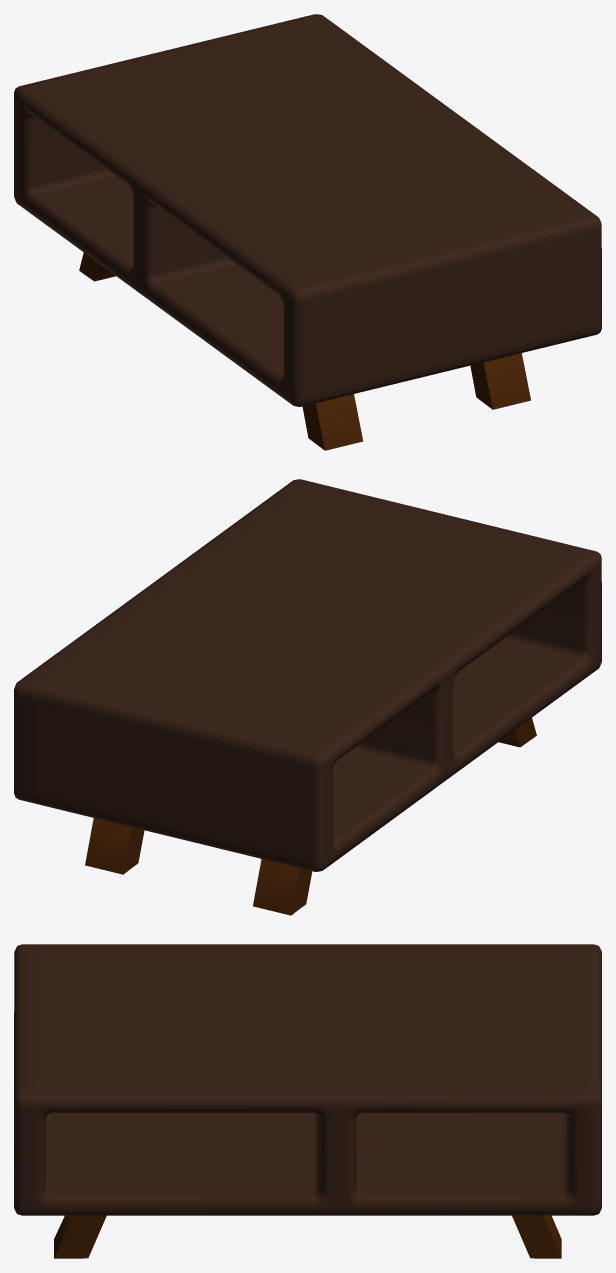
File: Table.fbx
3 views of the same model, one above another, from view 1: azimuth 30°, elevation 25°; view 2: azimuth 150°, elevation 25°; view 3: azimuth 270°, elevation 25° (orthographic). The views are drawn at different scales.
Visible parts, largest first — view 1: pCube5, pasted__pCube3, pasted__pasted__pCube3; view 2: pCube5, pasted__pCube3, pasted__pasted__pCube3; view 3: pCube5, pasted__pasted__pCube3.
Part boxes in pixels (<box>): pCube5: <box>14,14,601,406</box>; pasted__pCube3: <box>79,252,363,450</box>; pasted__pasted__pCube3: <box>470,353,530,409</box>; pCube5: <box>14,479,601,871</box>; pasted__pCube3: <box>253,718,536,915</box>; pasted__pasted__pCube3: <box>85,818,144,874</box>; pCube5: <box>14,944,601,1215</box>; pasted__pasted__pCube3: <box>54,1215,561,1258</box>.
Size of the model in its own units: 5.86 by 3.31 by 9.33.
